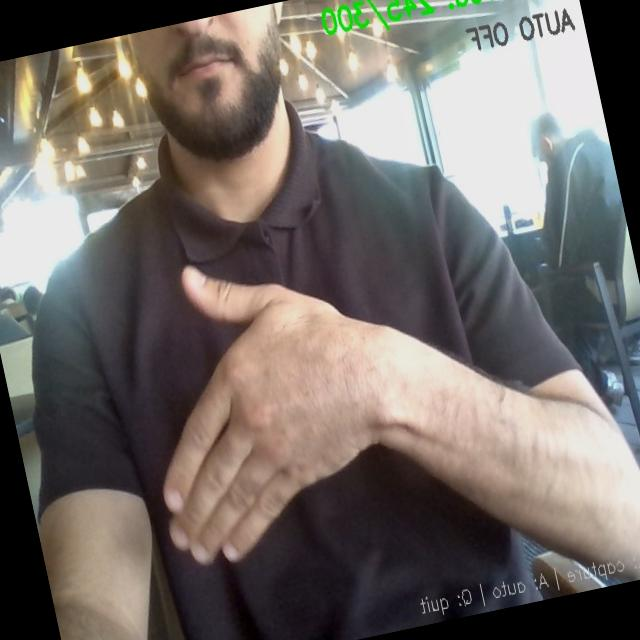Hand: (164, 266, 378, 563)
